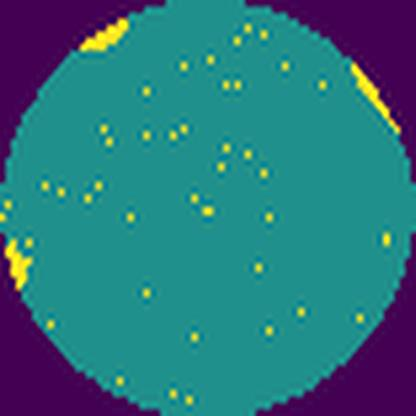Edge-Loc: (346, 54, 407, 140), (80, 19, 134, 55), (6, 237, 34, 292)
